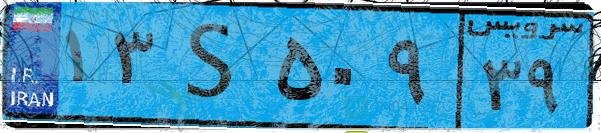0: (330, 28, 385, 110)
1: (57, 26, 110, 100)
3: (475, 38, 525, 113), (110, 28, 158, 98)
5: (270, 28, 330, 110)
9: (385, 28, 445, 110), (525, 38, 570, 115)
S: (158, 12, 270, 120)
